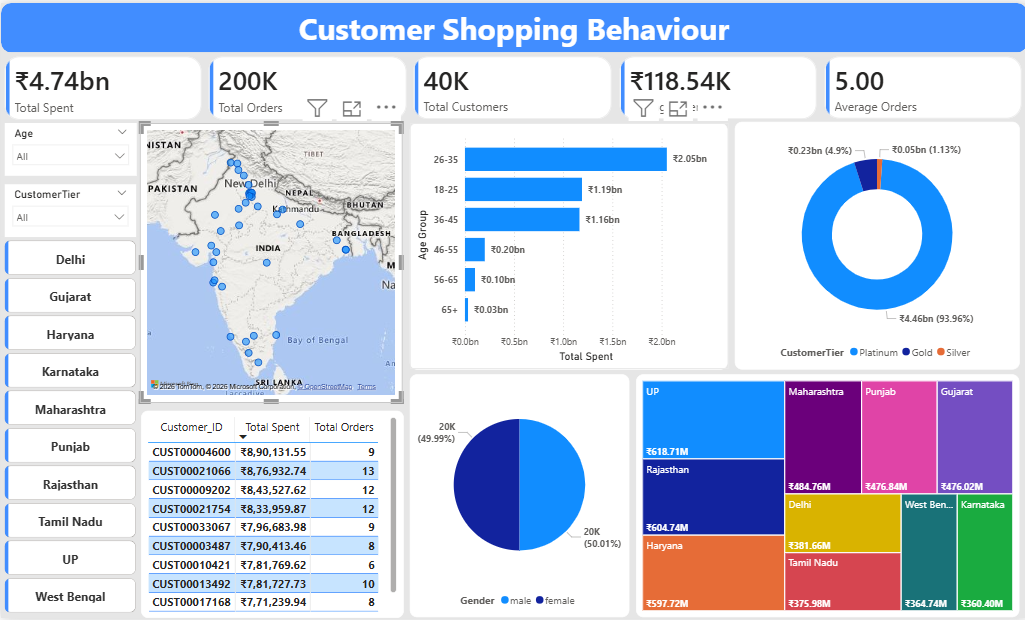

Layout of this report page (visuals, bound fields, positions):
{"tool":"powerbi","page":{"name":"Page 1","canvas":[1368,820],"ordinal":0},"visuals":[{"type":"shape","box":[0,0,1368.3,65.9],"z":0},{"type":"cardVisual","fields":{"Data":["customers.Total_Spent"]},"box":[0,65.9,272.2,94.4],"z":1000},{"type":"cardVisual","fields":{"Data":["customers.Total_Orders"]},"box":[270.9,65.9,274.6,94.4],"z":2000},{"type":"cardVisual","fields":{"Data":["customers.Total_Customers"]},"box":[545.6,65.9,274.6,93.2],"z":3000},{"type":"cardVisual","fields":{"Data":["customers.Average_Spent"]},"box":[820.2,65.9,272.2,93.2],"z":4000},{"type":"map","fields":{"Category":["customers.City"]},"box":[185.7,160,350,372.9],"z":5000},{"type":"advancedSlicerVisual","fields":{"Values":["customers.State"]},"box":[0,311.7,185,508.3],"z":6000},{"type":"donutChart","fields":{"Category":["customers.Customer_Tier"],"Y":["customers.Total_Spent"]},"box":[978.6,158.6,380,330],"z":7000},{"type":"clusteredBarChart","fields":{"Category":["customers.Age_Group"],"Y":["customers.Total_Spent"]},"box":[545.7,160,424.3,328.6],"z":8000},{"type":"pieChart","fields":{"Y":["customers.Total_Customers"],"Category":["customers.Gender"]},"box":[545.7,495.7,292.9,324.3],"z":9000},{"type":"treemap","fields":{"Values":["customers.Total_Spent"],"Group":["customers.State"]},"box":[847.1,495.7,511.4,324.3],"z":10000},{"type":"tableEx","fields":{"Values":["customers.Customer_ID","customers.Total_Spent","customers.Total_Orders"]},"box":[187.1,542.9,350,277.1],"z":11000},{"type":"slicer","fields":{"Values":["customers.Age"]},"box":[4.3,160,175.7,70],"z":12000},{"type":"cardVisual","fields":{"Data":["customers.Average Orders"]},"box":[1092.9,67.1,272.9,92.9],"z":13000},{"type":"slicer","fields":{"Values":["customers.CustomerTier"]},"box":[5,241.7,175,70],"z":14000}]}

Visuals, with their boxes in screenshot pixels (x1, y1, x2, y2), scaled from the page's 1368x820 canvas onto the 1025x620 screenshot:
shape: bbox=[0, 0, 1024, 50]
cardVisual - customers.Total_Spent: bbox=[0, 50, 204, 121]
cardVisual - customers.Total_Orders: bbox=[203, 50, 409, 121]
cardVisual - customers.Total_Customers: bbox=[409, 50, 615, 120]
cardVisual - customers.Average_Spent: bbox=[615, 50, 819, 120]
map - customers.City: bbox=[139, 121, 401, 403]
advancedSlicerVisual - customers.State: bbox=[0, 236, 139, 619]
donutChart - customers.Customer_Tier x customers.Total_Spent: bbox=[733, 120, 1018, 369]
clusteredBarChart - customers.Age_Group x customers.Total_Spent: bbox=[409, 121, 727, 369]
pieChart - customers.Total_Customers x customers.Gender: bbox=[409, 375, 628, 619]
treemap - customers.Total_Spent x customers.State: bbox=[635, 375, 1018, 619]
tableEx - customers.Customer_ID x customers.Total_Spent: bbox=[140, 410, 402, 619]
slicer - customers.Age: bbox=[3, 121, 135, 174]
cardVisual - customers.Average Orders: bbox=[819, 51, 1023, 121]
slicer - customers.CustomerTier: bbox=[4, 183, 135, 236]
